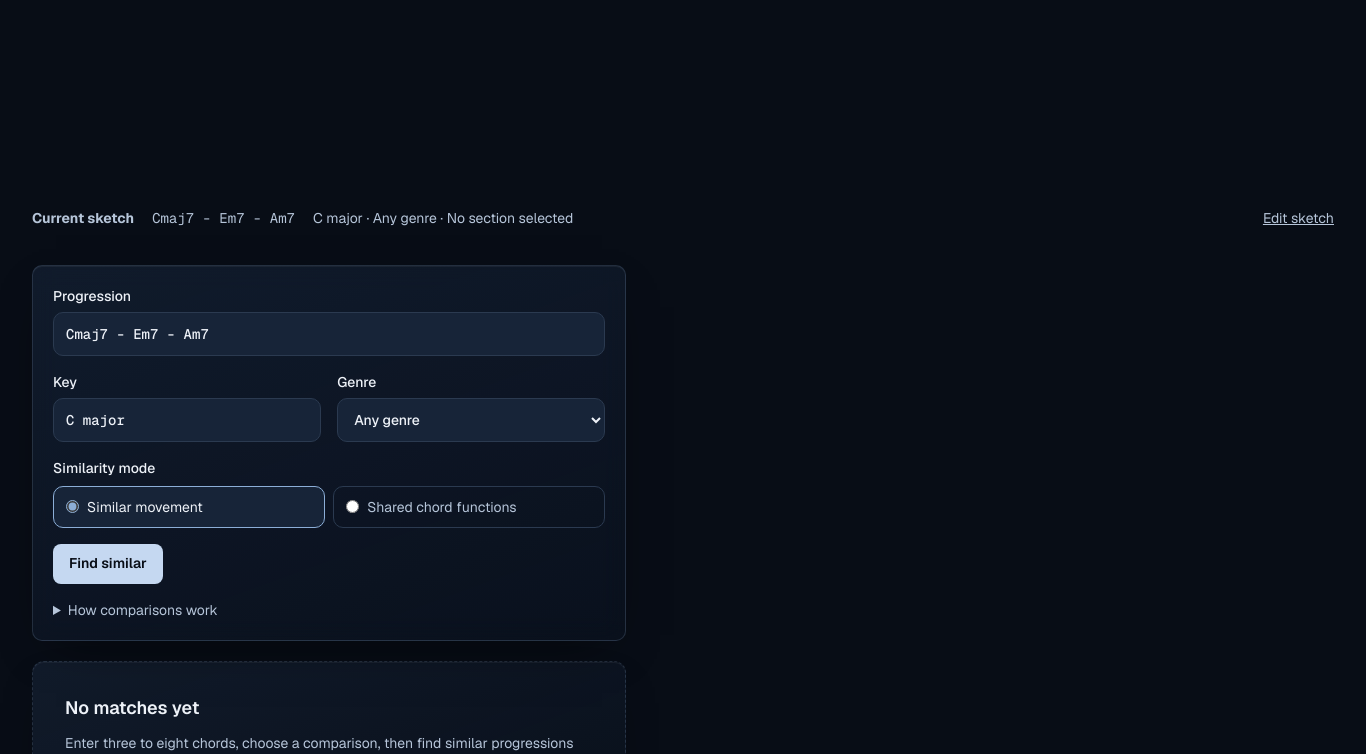
Test case: similarity explorer › switches to surface overlap ranking
The width and height of the screenshot is (1366, 754).
Step 1. Click the radio button labelled "Shared chord functions" → (353, 507), box [346,500,359,513]
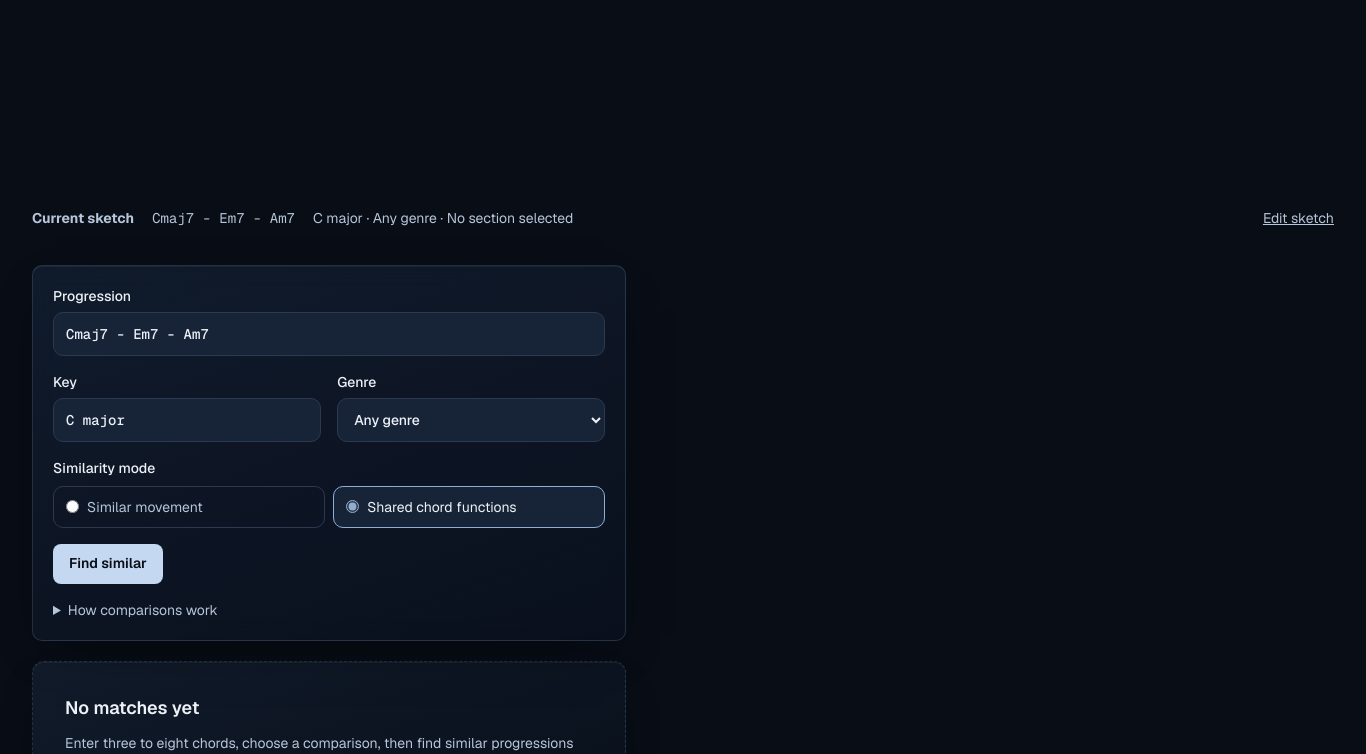
Step 2. Click the button "Find similar" → (108, 564), box [53,544,163,584]
(page scrolled)
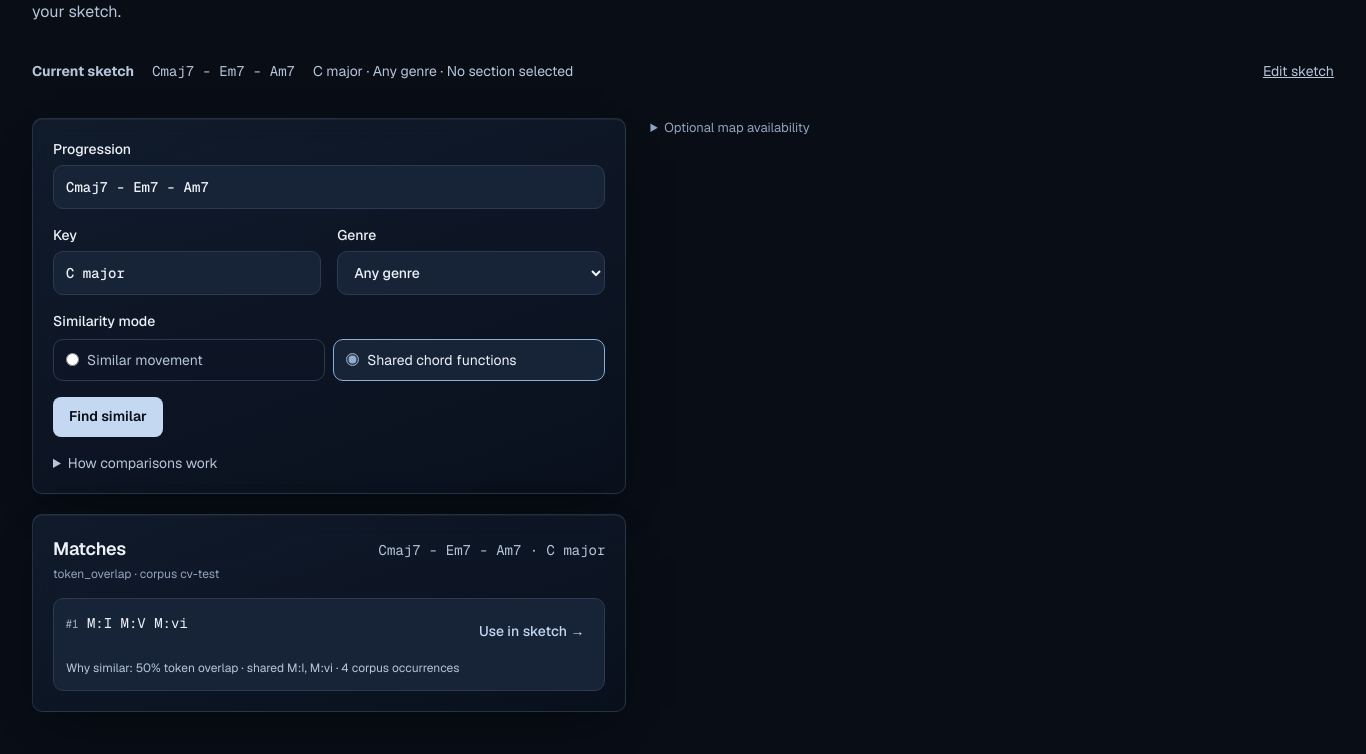
expect the text "50% token overlap" is shown: met, box [136,660,238,676]
